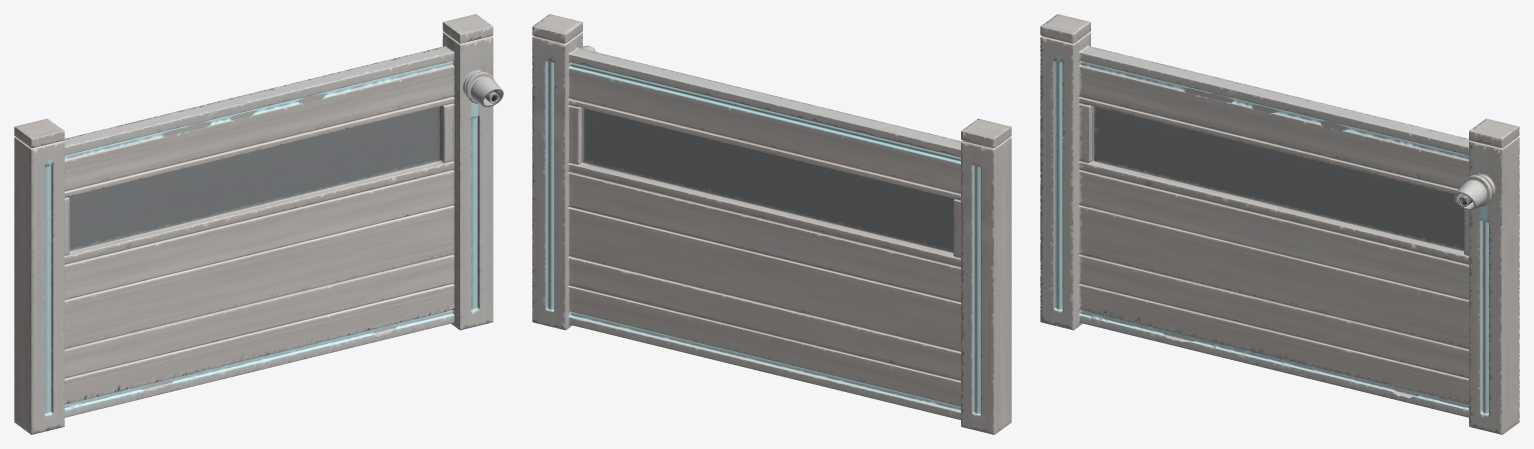
The model's file is Meshy_AI_Illuminated_Guard_Rai_0220164033_texture.fbx.
The picture shows the model from 3 angles, left to right: view 1: azimuth 30°, elevation 25°; view 2: azimuth 150°, elevation 25°; view 3: azimuth 330°, elevation 25°; orthographic projection.
Parts seen in each view (by area): view 1: Mesh_0; view 2: Mesh_0; view 3: Mesh_0.
Part boxes in pixels (box(x1,y1,x2,y2)): Mesh_0: box(14, 14, 503, 434); Mesh_0: box(532, 14, 1011, 434); Mesh_0: box(1040, 14, 1519, 434).
Bounding box in the file's own units: 190 × 116 × 27.21.
Materials: 1 (1 with a texture image).
